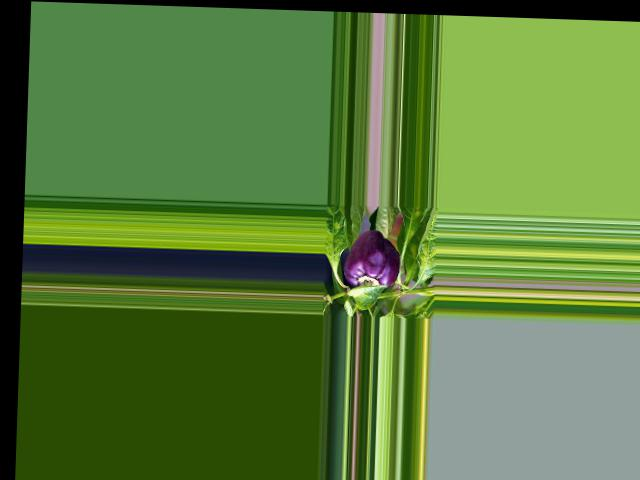bell_pepper: (343, 226, 402, 295)
